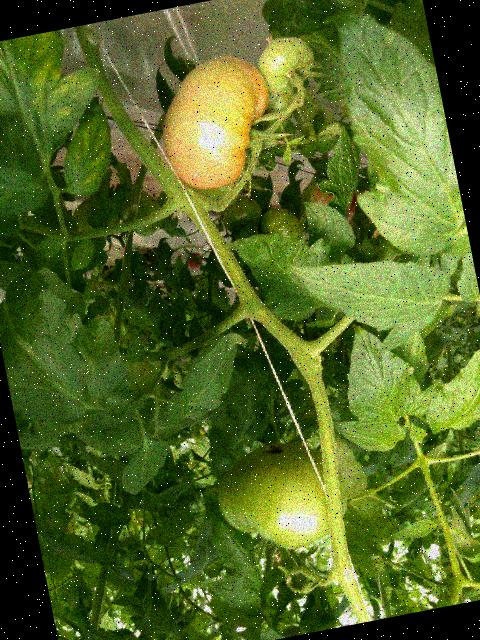b_green: (208, 431, 356, 562), (253, 32, 319, 96), (240, 86, 300, 144), (113, 185, 166, 242), (256, 203, 303, 247), (220, 194, 264, 235)
b_half_ripened: (149, 48, 285, 197)
